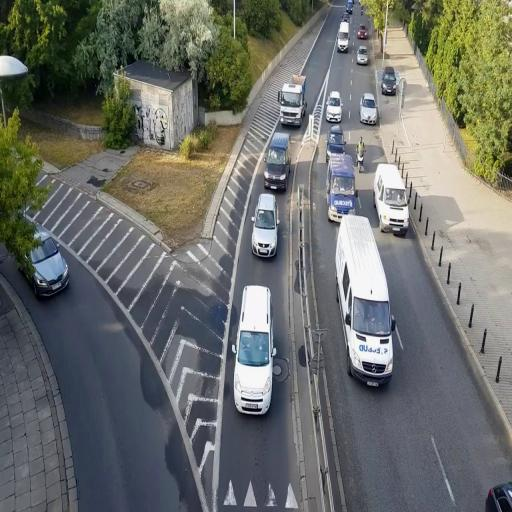vehicle: (334, 212, 395, 388), (233, 284, 273, 416), (21, 232, 70, 300), (372, 163, 410, 236), (327, 153, 357, 221), (251, 193, 279, 260), (263, 131, 290, 192), (264, 132, 290, 192), (279, 76, 307, 130), (360, 93, 379, 125), (326, 90, 342, 122), (381, 68, 398, 95), (356, 44, 370, 66)
